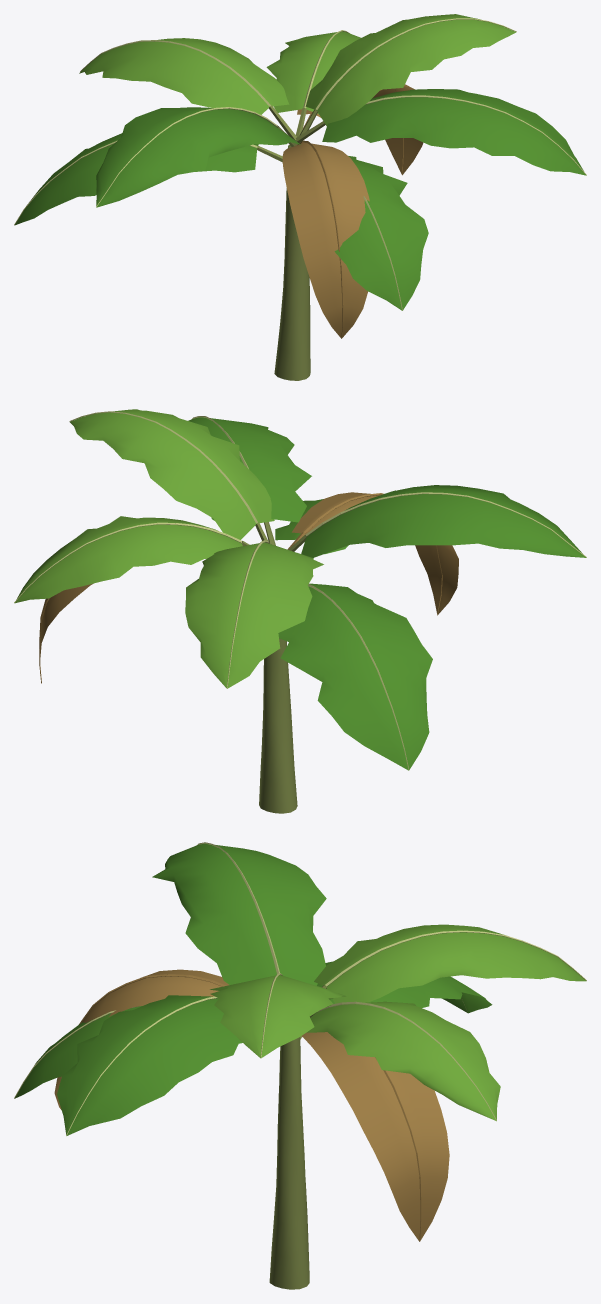
The model's file is banana_tree_02.glb.
3 views of the same model, one above another, from view 1: azimuth 30°, elevation 25°; view 2: azimuth 150°, elevation 25°; view 3: azimuth 270°, elevation 25° (orthographic). The views are drawn at different scales.
Visible parts, largest first — view 1: banana_tree_02; view 2: banana_tree_02; view 3: banana_tree_02.
Boxes of the visible parts, box(x1,y1,x2,y2) form: banana_tree_02: box(14, 14, 586, 380); banana_tree_02: box(14, 409, 586, 813); banana_tree_02: box(14, 842, 586, 1289).
Bounding box in the file's own units: 5.48 × 3.76 × 5.31.
